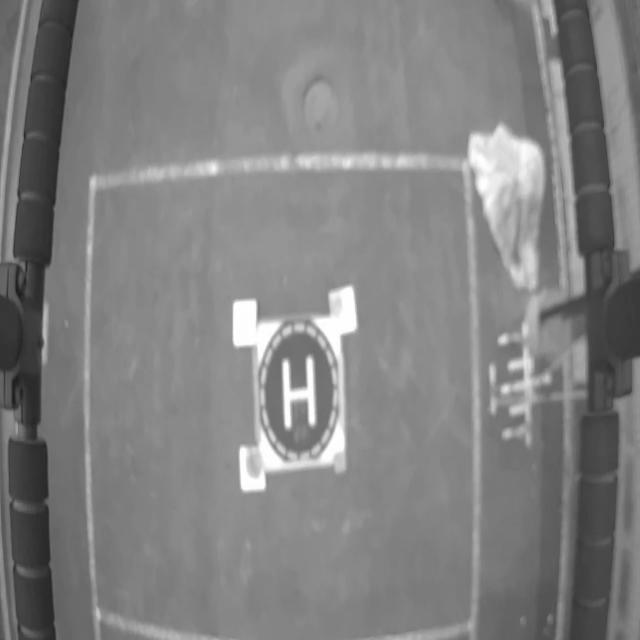Helipad: (283, 359, 316, 433)
